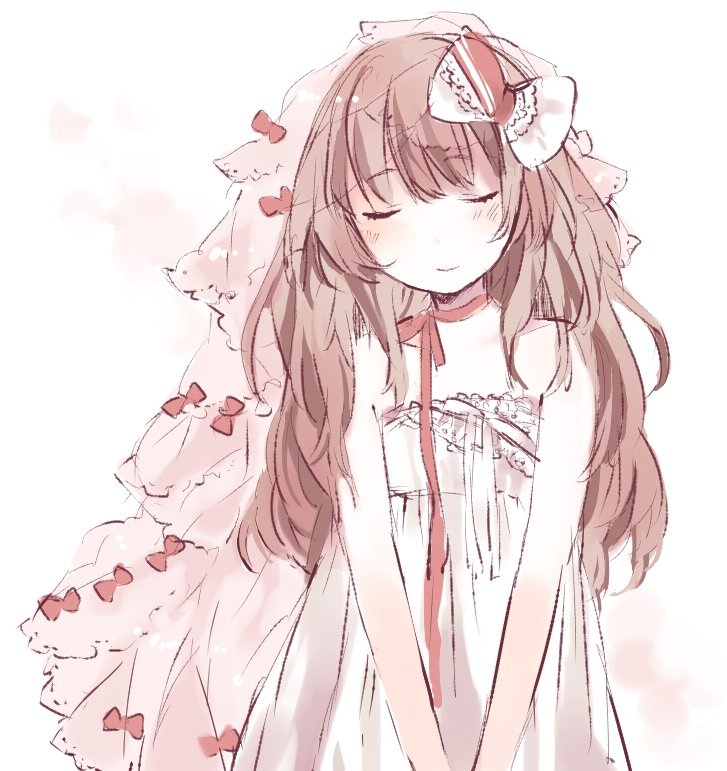纸片人正脸: (278, 14, 579, 315)
